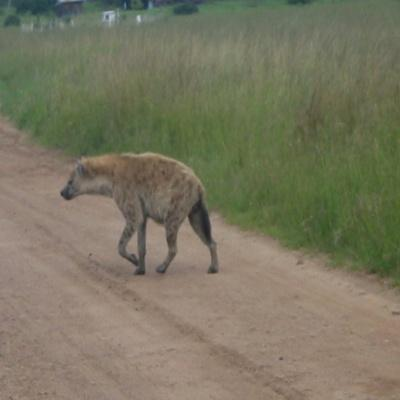hyenas: (50, 127, 224, 288)
